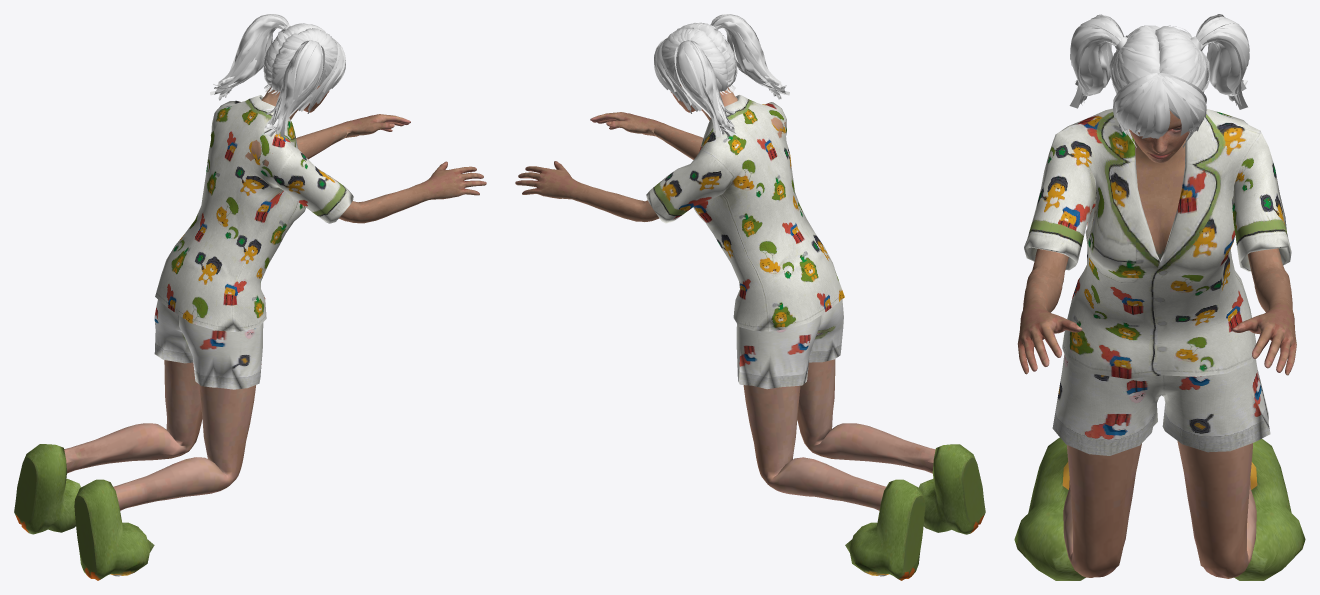
File: pole_pubg.glb
3 renders of one model, left to right at view 1: azimuth 30°, elevation 25°; view 2: azimuth 150°, elevation 25°; view 3: azimuth 270°, elevation 25°, orthographic. The views are drawn at different scales.
Bounding box in the file's own units: 1.13 × 1.31 × 0.4921.
8 materials, 6 textured.
